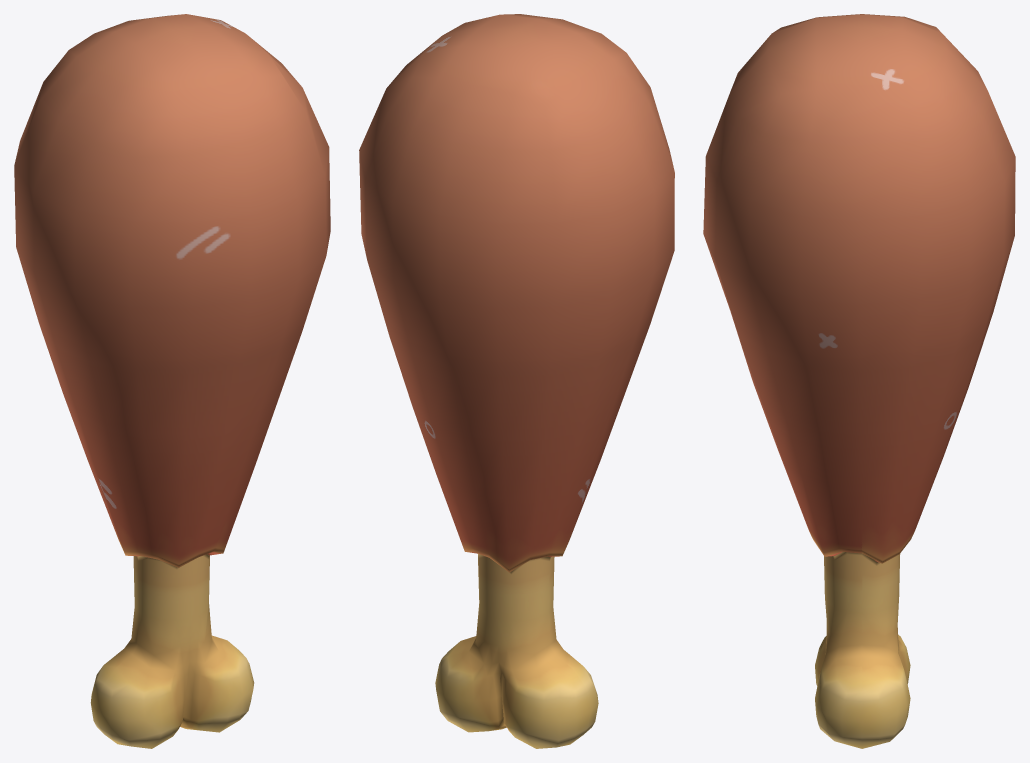
File: Chicken_Leg.fbx
The picture shows the model from 3 angles, left to right: view 1: azimuth 30°, elevation 25°; view 2: azimuth 150°, elevation 25°; view 3: azimuth 270°, elevation 25°; orthographic projection.
Parts seen in each view (by area): view 1: Chicken_Leg; view 2: Chicken_Leg; view 3: Chicken_Leg.
Part boxes in pixels (x1=…): Chicken_Leg: x1=14, y1=14, x2=330, y2=748; Chicken_Leg: x1=359, y1=14, x2=674, y2=748; Chicken_Leg: x1=703, y1=14, x2=1015, y2=748.
Bounding box in the file's own units: 936 × 2290 × 925.
